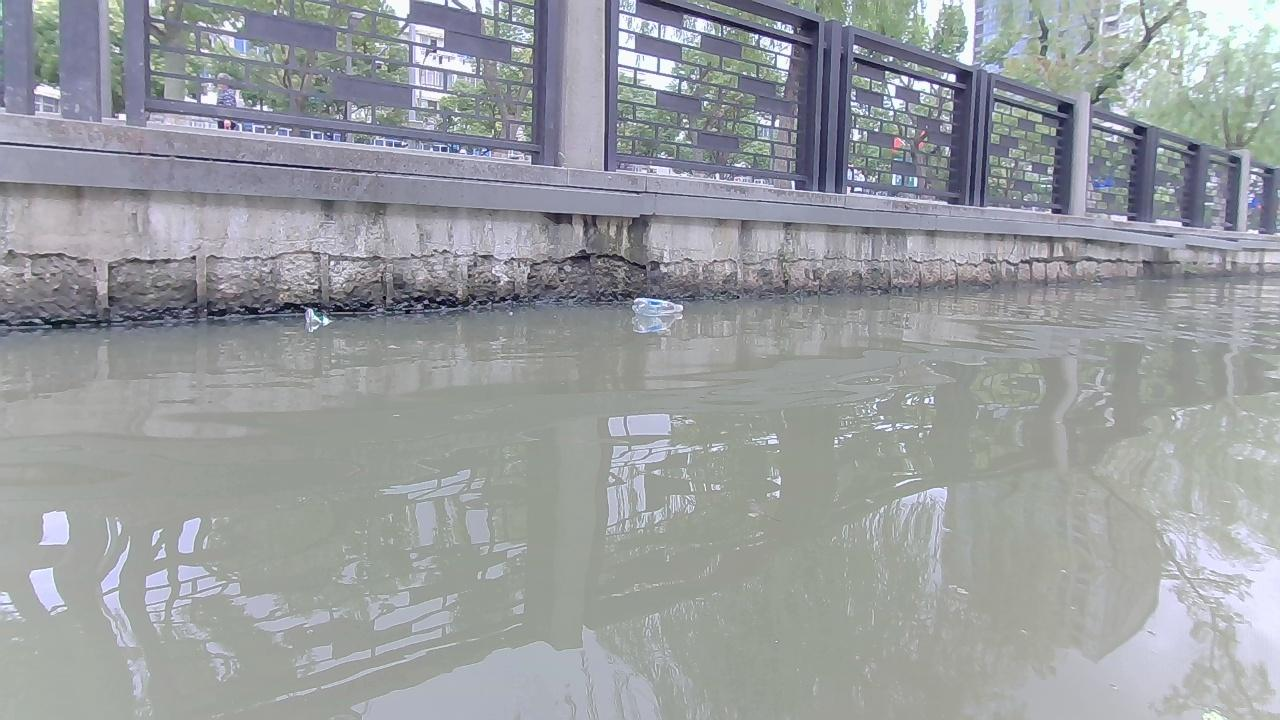bottle: (631, 296, 683, 313), (303, 307, 331, 323)
